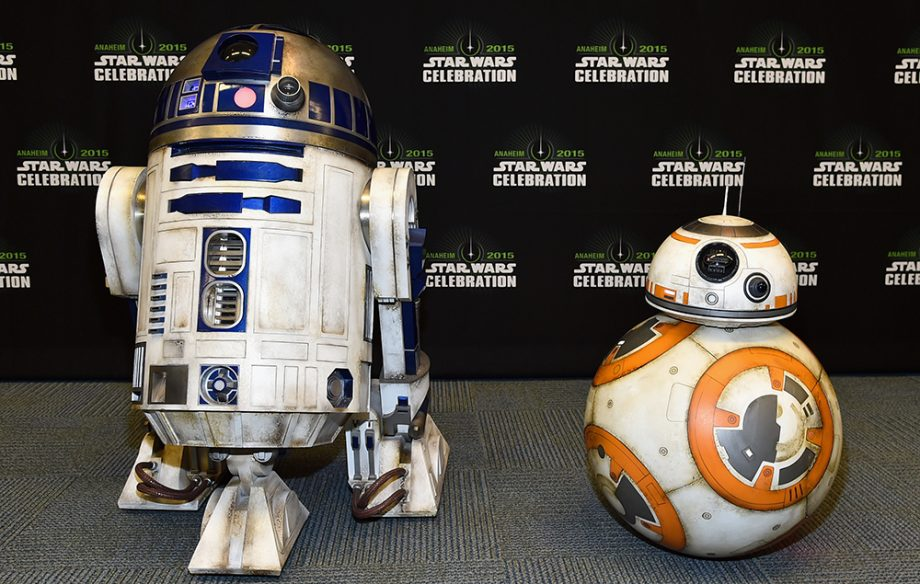r2d2: (101, 25, 448, 573)
